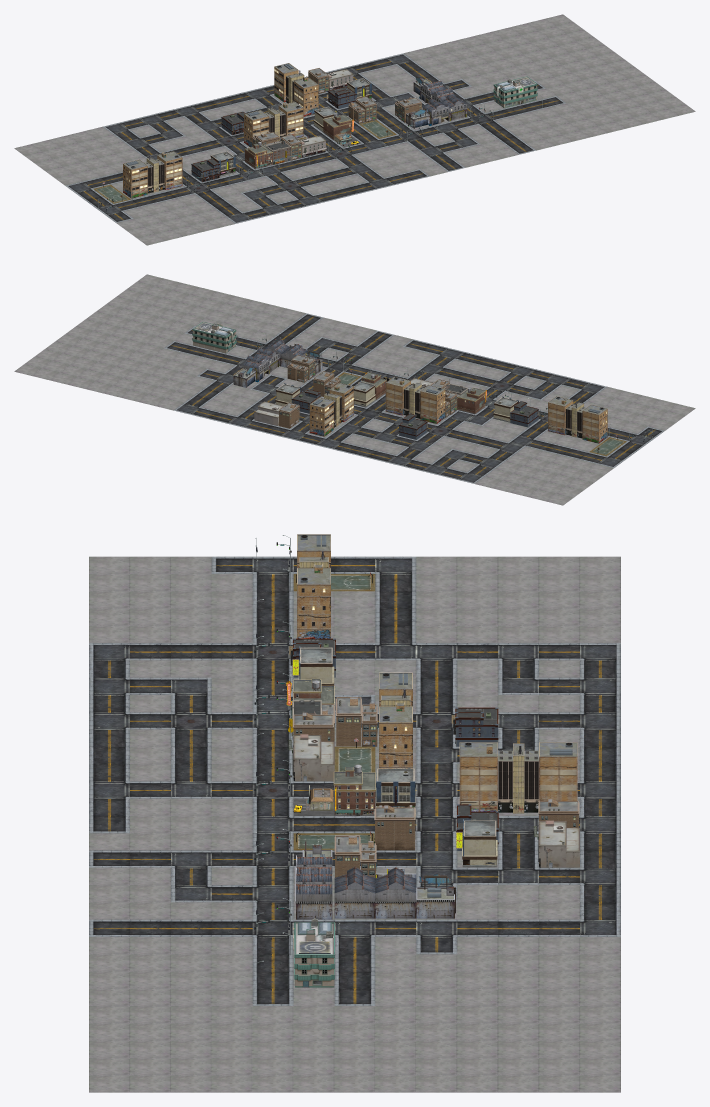
The picture shows the model from 3 angles, top to bottom: view 1: azimuth 30°, elevation 25°; view 2: azimuth 150°, elevation 25°; view 3: azimuth 270°, elevation 25°; orthographic projection. The views are drawn at different scales.
Parts seen in each view (by area): view 1: BD_ConcreteBlock1_RoadsGround_0, LMProjects2_pasted__group65_pasted__pCube40_LMProjects_0, pCube11_FillerBuildings1_0, pasted__pCube1_FishFactory_0, pCube2_Paramount_0, pasted__pCube80_Pawnshop_0, LM_Clinic2_Clinic_0, LM_Basketball9_Basketball_0, polySurface260_CityProps_0, polySurface20_FillerBuildings1GLOW_0; view 2: BD_ConcreteBlock1_RoadsGround_0, LMProjects2_pasted__group65_pasted__pCube40_LMProjects_0, pCube11_FillerBuildings1_0, pasted__pCube1_FishFactory_0, pasted__pCube80_Pawnshop_0, LM_Clinic2_Clinic_0, pCube2_Paramount_0, LM_Basketball9_Basketball_0; view 3: BD_ConcreteBlock1_RoadsGround_0, pCube11_FillerBuildings1_0, LMProjects2_pasted__group65_pasted__pCube40_LMProjects_0, pasted__pCube1_FishFactory_0, pasted__pCube80_Pawnshop_0, LM_Basketball9_Basketball_0, pCube2_Paramount_0, LM_Clinic2_Clinic_0, polySurface260_CityProps_0, pasted__pPlane94_Laundrymat_0.
Boxes of the visible parts, x1,y1,x2,y2 form: BD_ConcreteBlock1_RoadsGround_0: (14, 14, 695, 245); LMProjects2_pasted__group65_pasted__pCube40_LMProjects_0: (123, 63, 318, 198); pCube11_FillerBuildings1_0: (191, 68, 421, 182); pasted__pCube1_FishFactory_0: (406, 76, 467, 128); pCube2_Paramount_0: (244, 113, 353, 169); pasted__pCube80_Pawnshop_0: (210, 78, 371, 176); LM_Clinic2_Clinic_0: (493, 76, 537, 107); LM_Basketball9_Basketball_0: (93, 117, 396, 203); polySurface260_CityProps_0: (98, 98, 542, 211); polySurface20_FillerBuildings1GLOW_0: (192, 73, 420, 176); BD_ConcreteBlock1_RoadsGround_0: (14, 274, 695, 505); LMProjects2_pasted__group65_pasted__pCube40_LMProjects_0: (309, 376, 607, 443); pCube11_FillerBuildings1_0: (254, 355, 539, 439); pasted__pCube1_FishFactory_0: (233, 339, 322, 387); pasted__pCube80_Pawnshop_0: (275, 381, 518, 422); LM_Clinic2_Clinic_0: (192, 321, 236, 353); pCube2_Paramount_0: (358, 372, 485, 414); LM_Basketball9_Basketball_0: (337, 370, 626, 456); BD_ConcreteBlock1_RoadsGround_0: (89, 556, 620, 1092); pCube11_FillerBuildings1_0: (288, 638, 579, 877); LMProjects2_pasted__group65_pasted__pCube40_LMProjects_0: (297, 534, 577, 813); pasted__pCube1_FishFactory_0: (295, 840, 455, 919); pasted__pCube80_Pawnshop_0: (292, 646, 497, 867); LM_Basketball9_Basketball_0: (293, 572, 375, 850); pCube2_Paramount_0: (287, 679, 375, 815); LM_Clinic2_Clinic_0: (293, 918, 334, 987); polySurface260_CityProps_0: (254, 535, 291, 983); pasted__pPlane94_Laundrymat_0: (293, 785, 334, 815).
Size of the model in its own units: 55800 by 3185 by 23399.
Materials: 22 (18 with a texture image).
